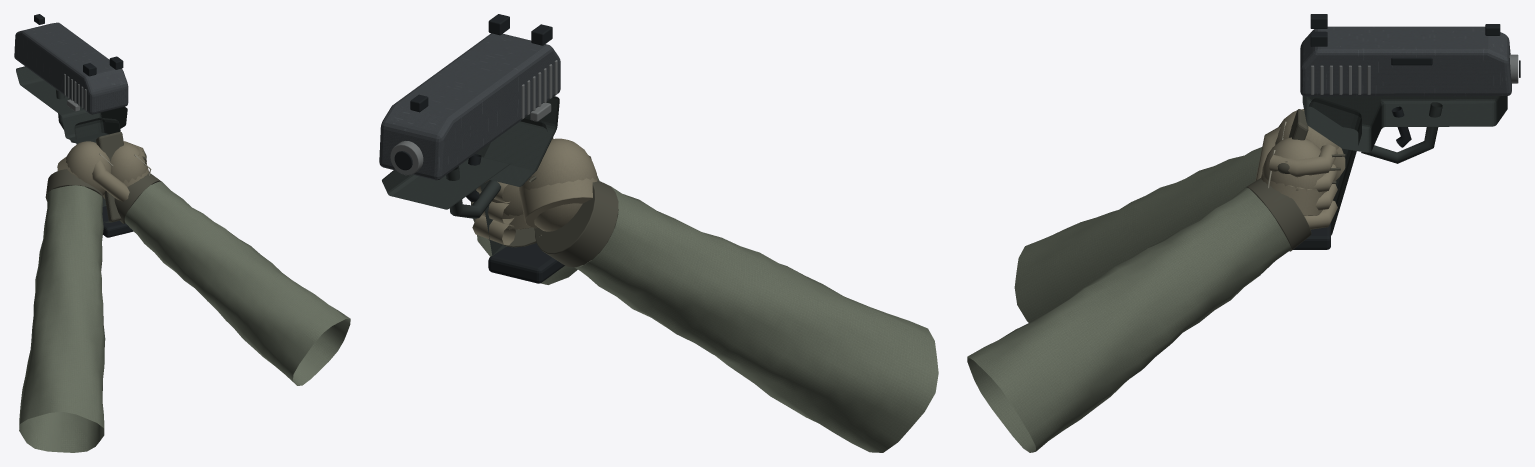
The model's file is sidearm.glb.
The picture shows the model from 3 angles, left to right: view 1: azimuth 30°, elevation 25°; view 2: azimuth 150°, elevation 25°; view 3: azimuth 270°, elevation 25°; orthographic projection. The views are drawn at different scales.
Visible parts, largest first — view 1: SupportArm.001Surface, MainArm.001Surface, Bolt.001Surface, Gun.001Surface, Magazine.001Surface; view 2: SupportArm.001Surface, Bolt.001Surface, Gun.001Surface, Magazine.001Surface, MainArm.001Surface; view 3: MainArm.001Surface, SupportArm.001Surface, Bolt.001Surface, Gun.001Surface, Magazine.001Surface.
Boxes of the visible parts, box(x1,y1,x2,y2) form: SupportArm.001Surface: box(19, 141, 146, 452); MainArm.001Surface: box(93, 142, 350, 385); Bolt.001Surface: box(14, 14, 128, 114); Gun.001Surface: box(16, 66, 127, 222); Magazine.001Surface: box(102, 206, 133, 237); SupportArm.001Surface: box(472, 138, 938, 452); Bolt.001Surface: box(379, 14, 560, 180); Gun.001Surface: box(382, 96, 559, 256); Magazine.001Surface: box(488, 243, 564, 283); MainArm.001Surface: box(471, 175, 599, 284); MainArm.001Surface: box(967, 127, 1334, 452); SupportArm.001Surface: box(1014, 109, 1345, 322); Bolt.001Surface: box(1300, 14, 1511, 96); Gun.001Surface: box(1289, 54, 1520, 235); Magazine.001Surface: box(1293, 223, 1330, 249).
Size of the model in its own units: 0.8709 by 0.8052 by 0.997.
Materials: 8 (4 with a texture image).
